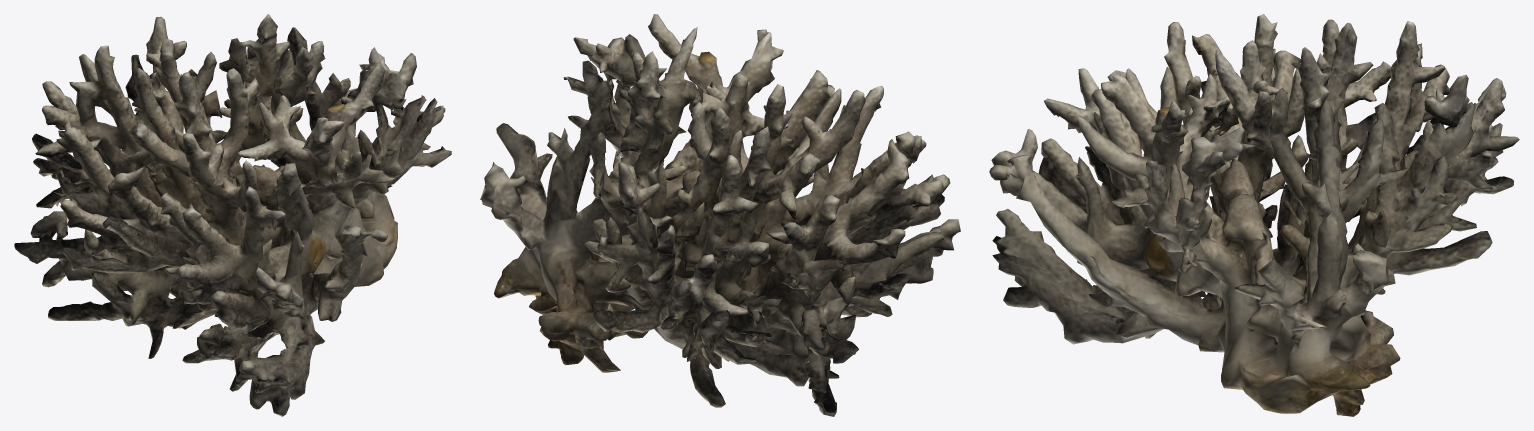
Rendered from smithsonian-coral.glb.
3 renders of one model, left to right at view 1: azimuth 30°, elevation 25°; view 2: azimuth 150°, elevation 25°; view 3: azimuth 270°, elevation 25°, orthographic. The views are drawn at different scales.
Parts seen in each view (by area): view 1: Normalized exhibit; view 2: Normalized exhibit; view 3: Normalized exhibit.
Boxes of the visible parts, <box> form: Normalized exhibit: <box>14,14,451,416</box>; Normalized exhibit: <box>480,14,960,416</box>; Normalized exhibit: <box>989,14,1519,416</box>.
Size of the model in its own units: 0.9637 by 0.723 by 1.
1 material, 1 textured.
